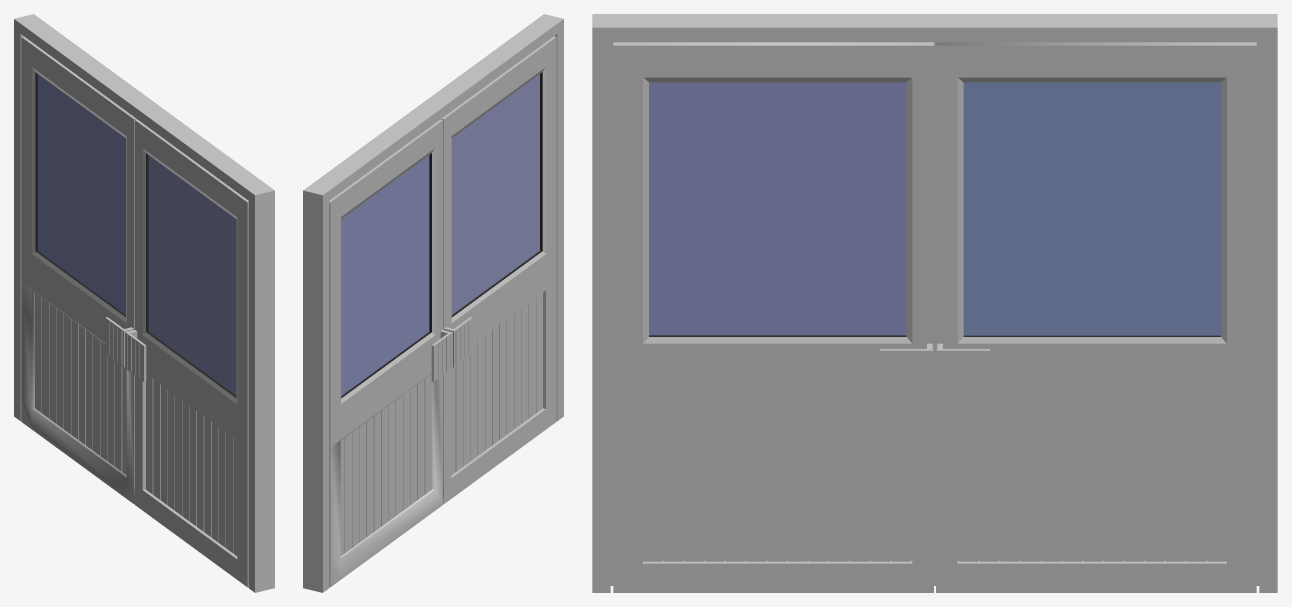
File: Door.fbx
3 views of the same model, side by side, from view 1: azimuth 30°, elevation 25°; view 2: azimuth 150°, elevation 25°; view 3: azimuth 270°, elevation 25° (orthographic). The views are drawn at different scales.
Visible parts, largest first — view 1: Плоскость; view 2: Плоскость; view 3: Плоскость.
Boxes of the visible parts, box(x1,y1,x2,y2) form: Плоскость: box(14, 14, 274, 592); Плоскость: box(303, 14, 563, 592); Плоскость: box(592, 14, 1277, 592).
Size of the model in its own units: 51.22 by 489 by 538.
